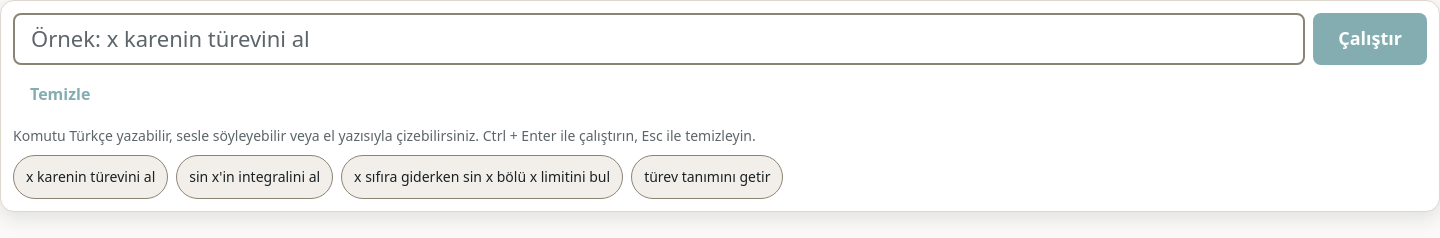
Test case: CommandBar › fills the input from an example chip
The width and height of the screenshot is (1440, 238).
Click the button "sin x'in integralini al": click(255, 177) [176, 155, 333, 199]
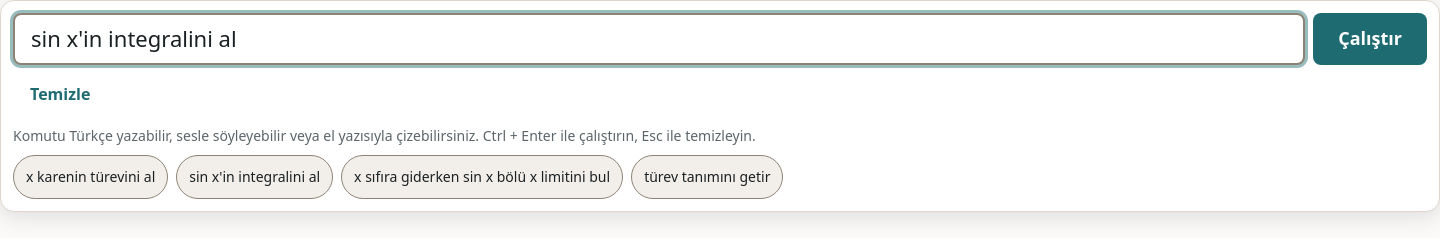
Expected: the field named "Komut" holds "sin x'in integralini al", [13, 13, 1305, 65]
